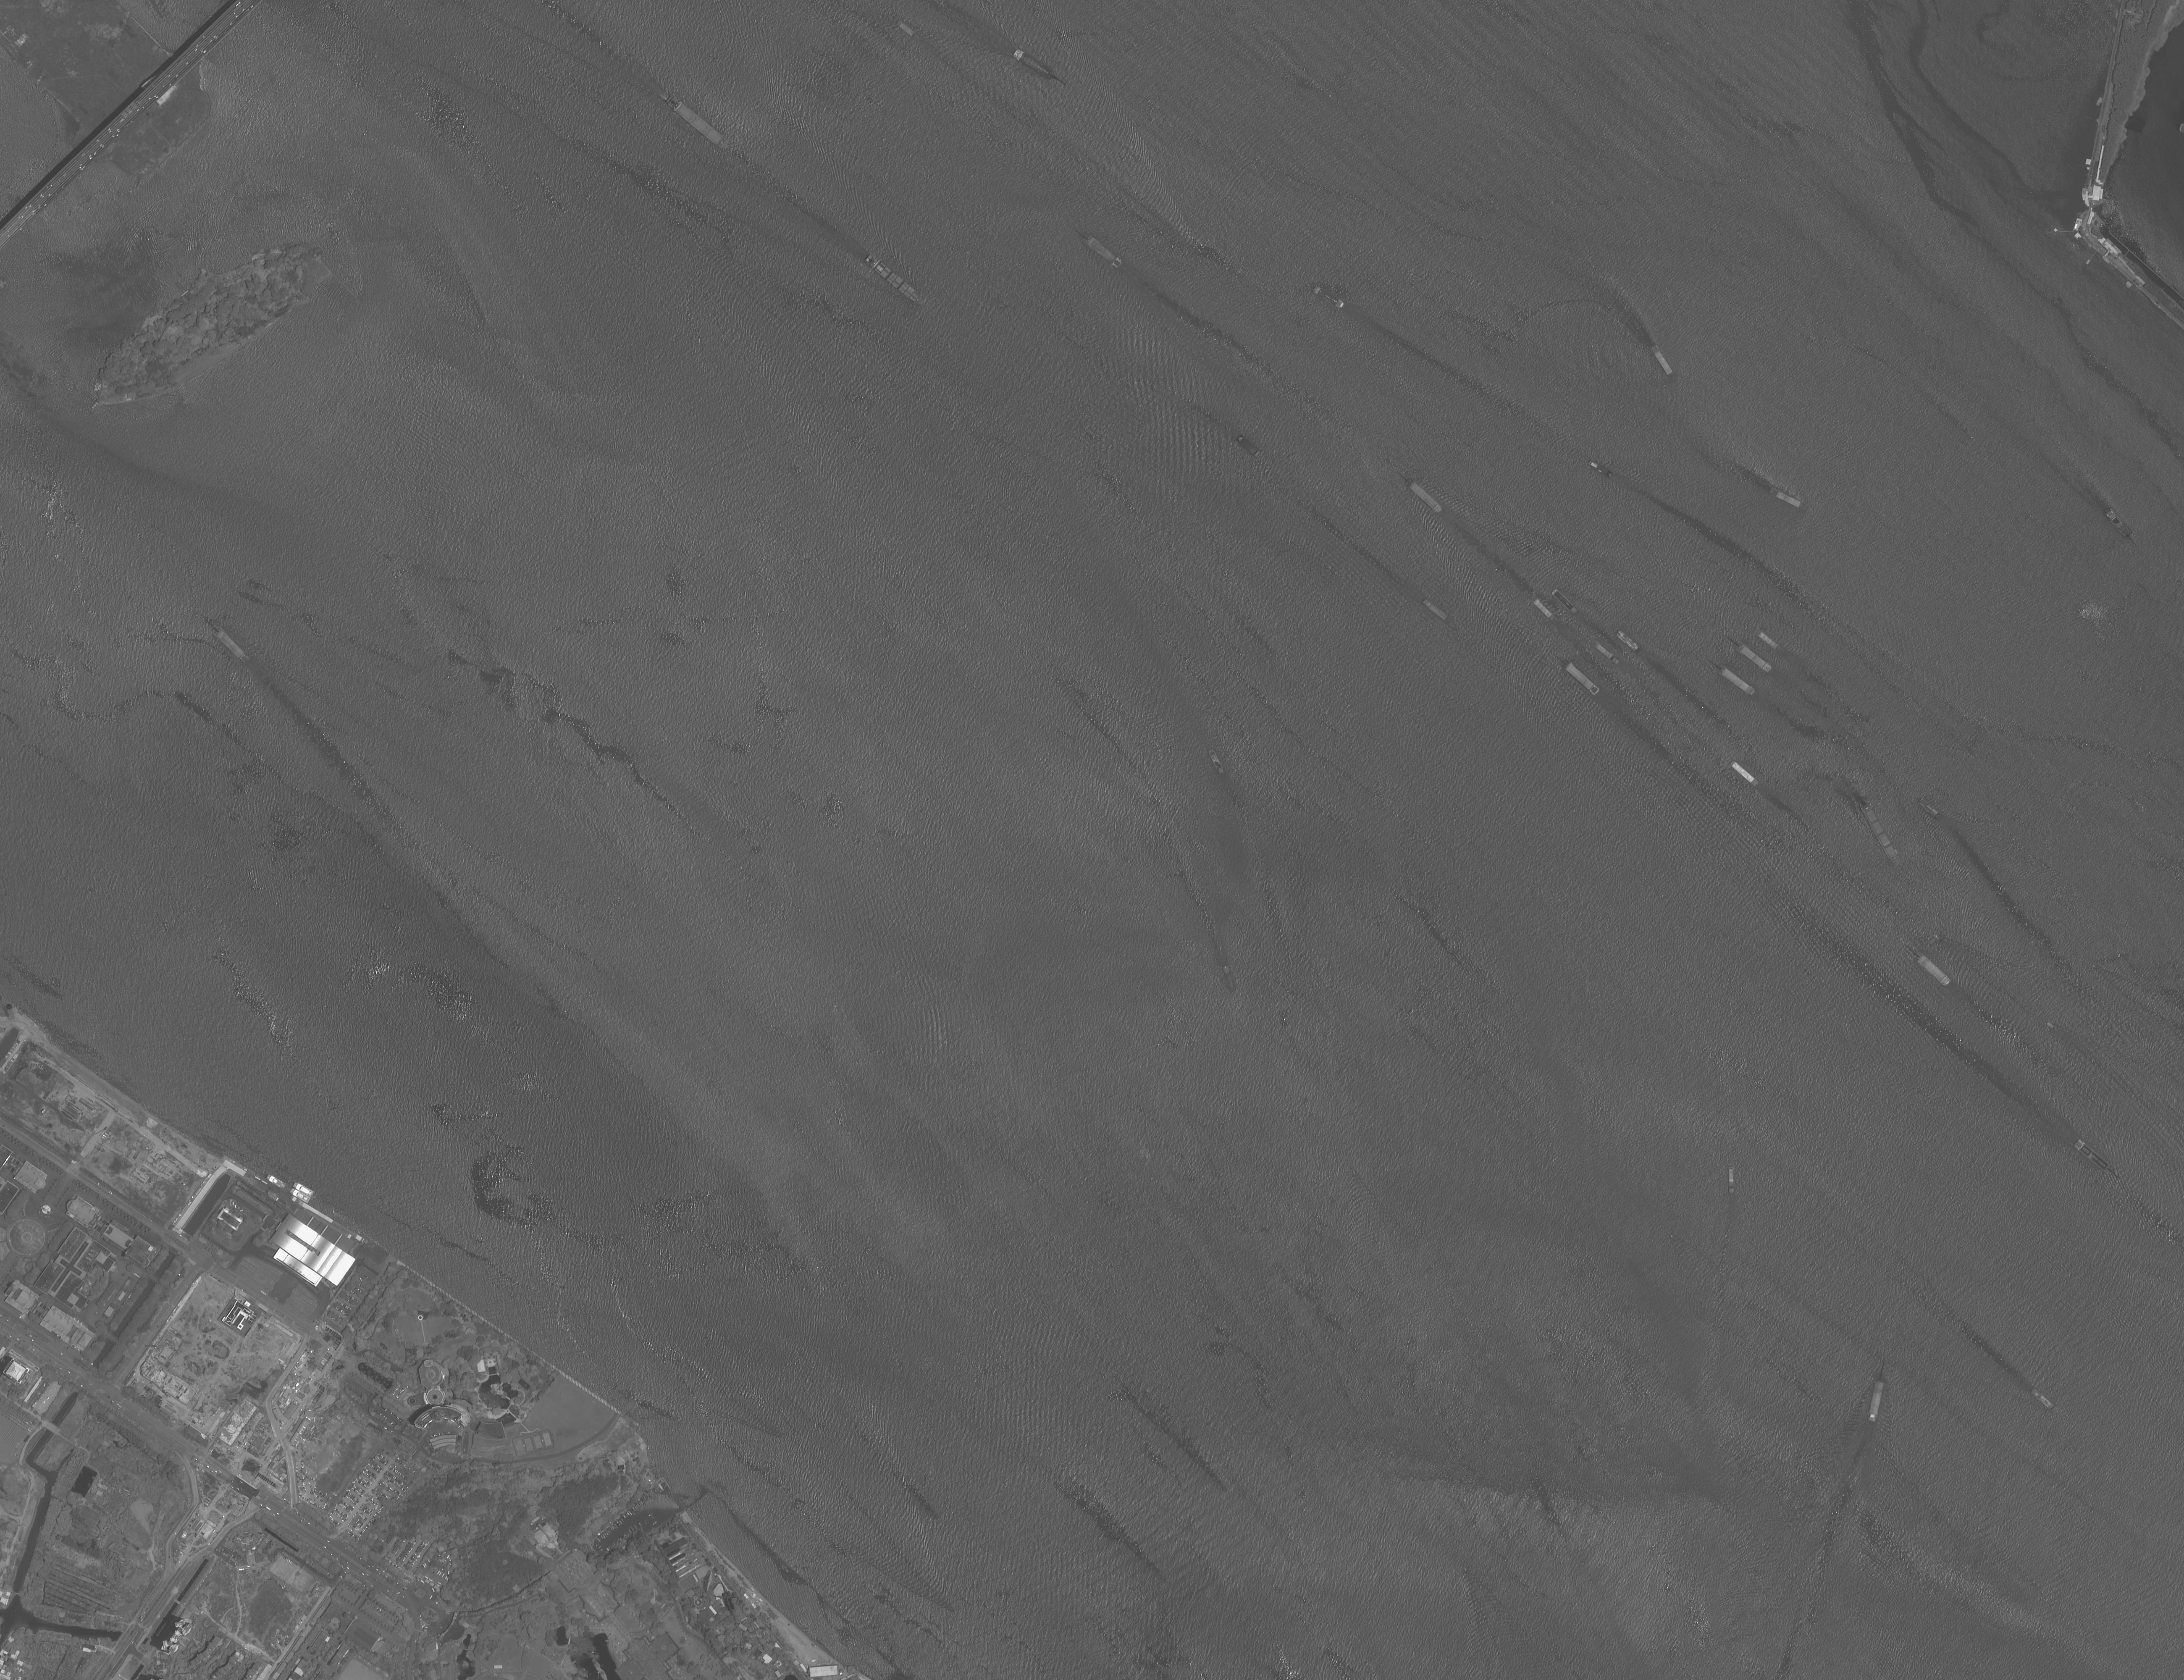ship: (660, 90, 736, 155), (861, 249, 931, 311), (1854, 794, 1907, 872), (1007, 42, 1071, 90), (2069, 1135, 2126, 1184), (1556, 655, 1605, 699), (208, 621, 254, 667), (1399, 473, 1447, 517), (1078, 229, 1127, 272), (1907, 946, 1956, 988), (1731, 635, 1778, 678), (1713, 660, 1761, 699), (1586, 635, 1627, 671), (1609, 623, 1648, 658), (2105, 508, 2140, 547), (1863, 1375, 1889, 1424), (2025, 1384, 2062, 1417), (1750, 625, 1787, 658), (1646, 341, 1678, 379), (1727, 759, 1762, 791), (1309, 282, 1348, 311), (891, 14, 924, 46), (1768, 487, 1810, 512), (1549, 586, 1581, 616), (1530, 596, 1561, 626), (1420, 596, 1454, 625), (1233, 432, 1265, 461), (1914, 794, 1944, 822), (1205, 746, 1230, 778), (1584, 459, 1618, 482), (263, 1172, 289, 1193), (286, 1186, 312, 1205), (289, 1181, 316, 1198), (1725, 1165, 1739, 1195), (1223, 965, 1237, 992)
